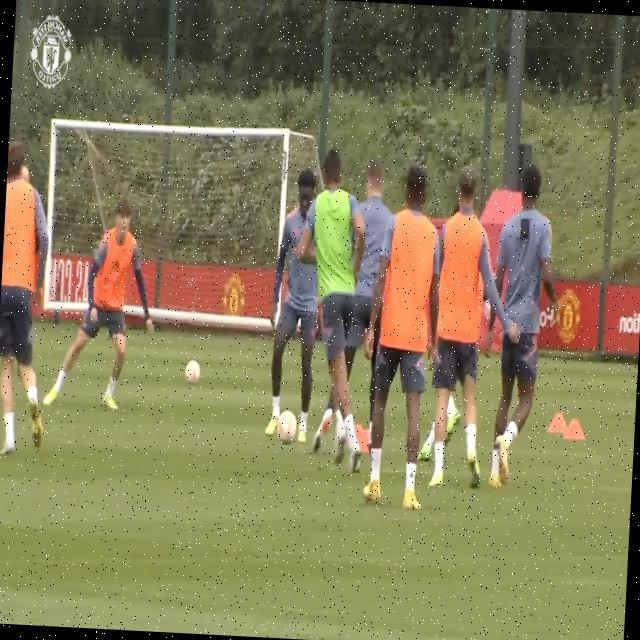Adidas: (109, 257, 122, 275)
